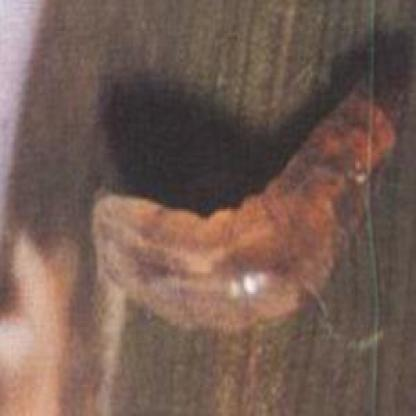whorl-maggot: (92, 74, 403, 338)
